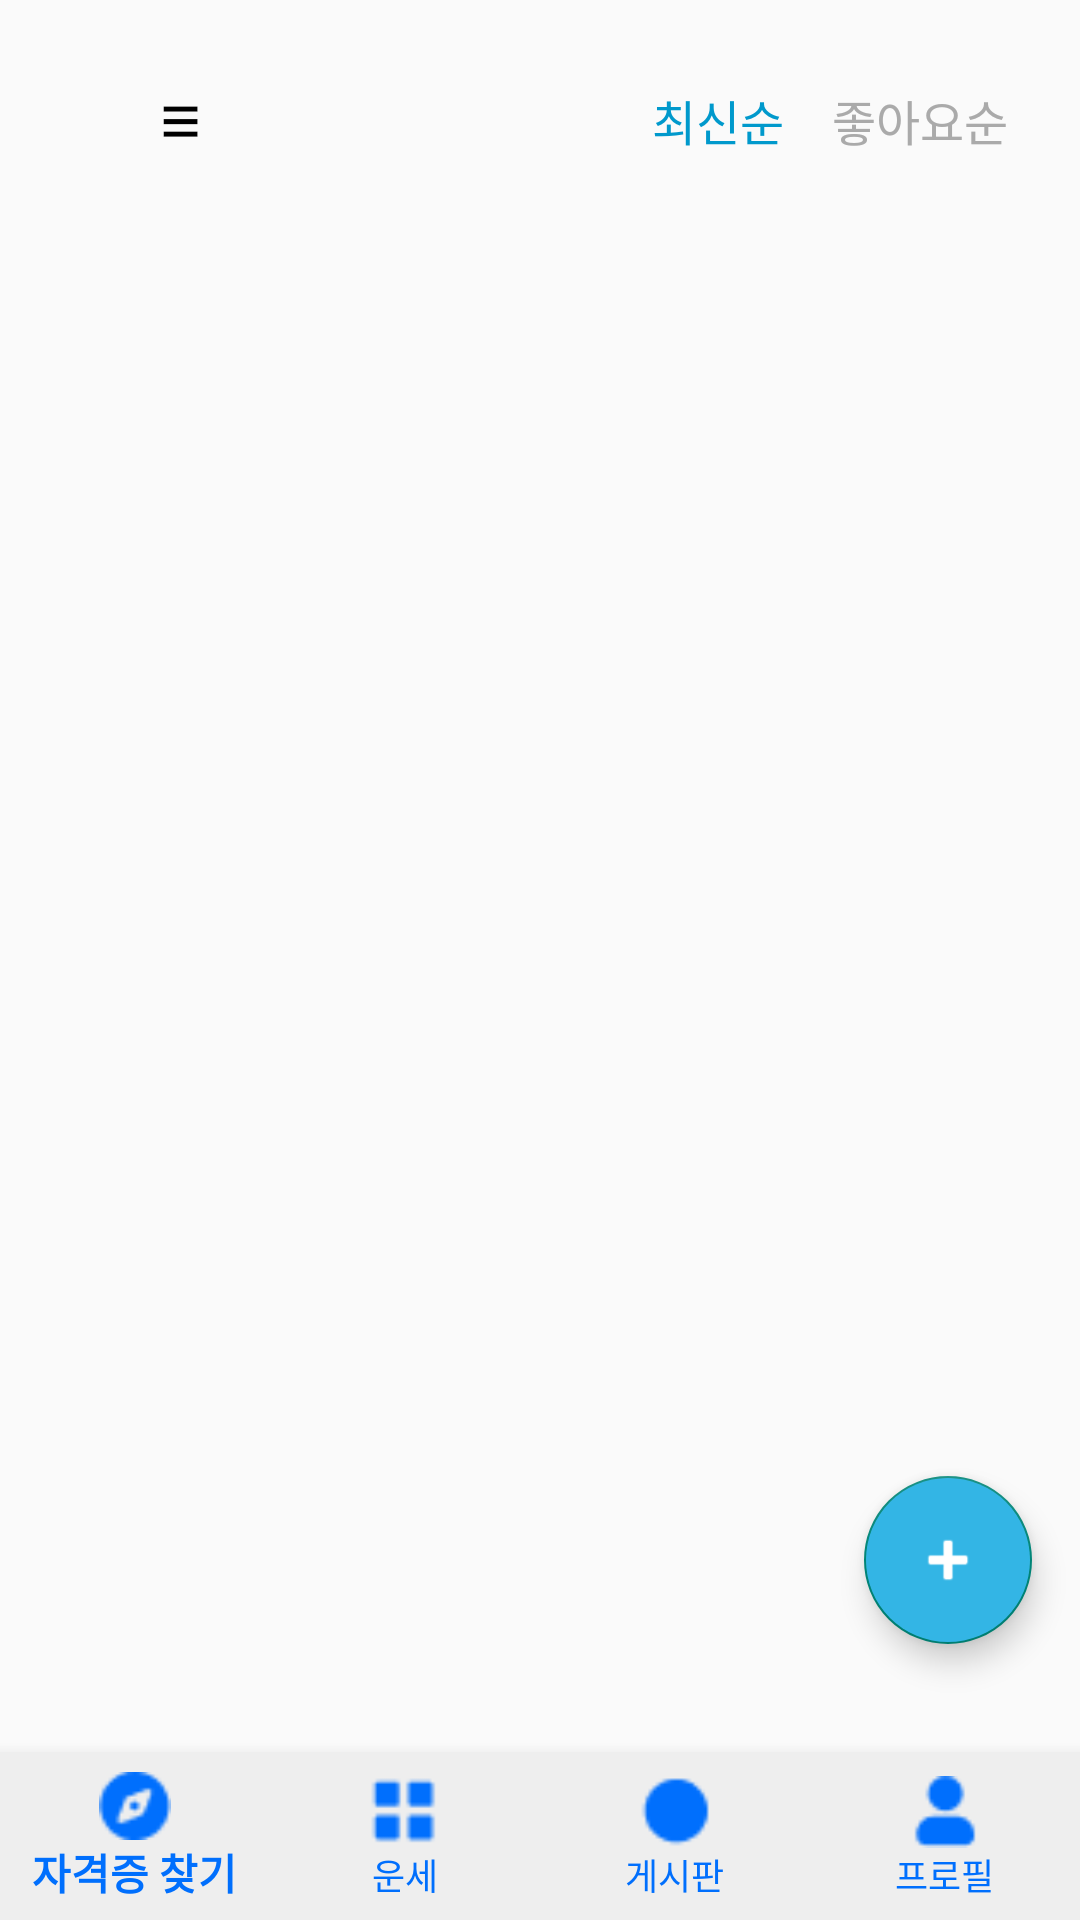

Screen size 1080px×1920px. Icon name, then its box in pixels as (x1, y1, x2, y2):
게시글 작성: (864, 1476, 1032, 1644)
